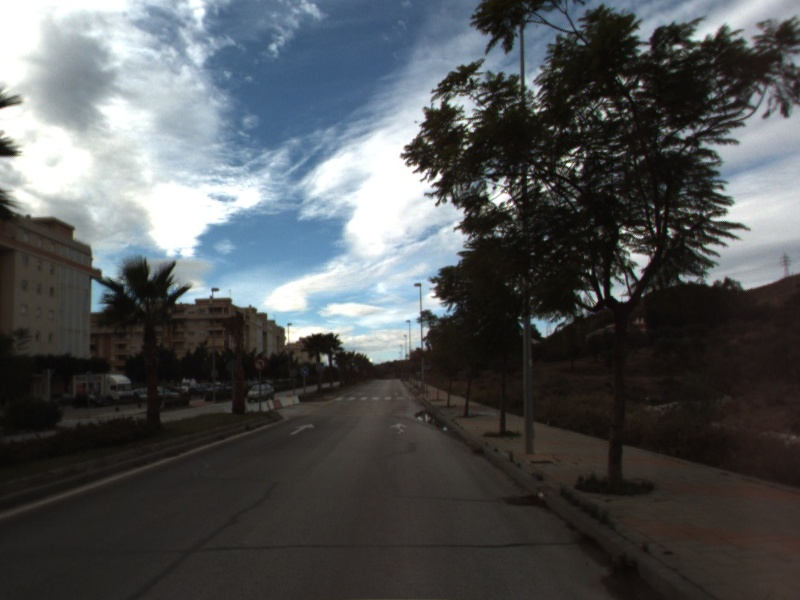STRAIGHT: (288, 421, 316, 437), (388, 421, 410, 436)
